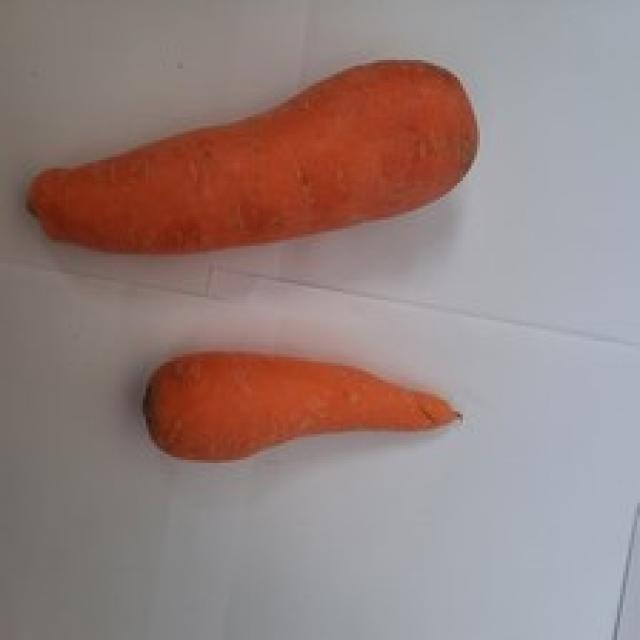carrot: (22, 54, 481, 259), (138, 350, 474, 460)
